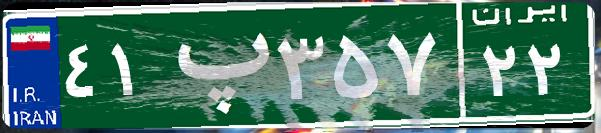1: (110, 28, 158, 105)
2: (475, 38, 525, 113), (525, 38, 570, 115)
3: (273, 28, 330, 110)
4: (57, 26, 110, 107)
5: (330, 28, 385, 110)
7: (385, 28, 445, 110)
پ: (158, 15, 273, 115)
